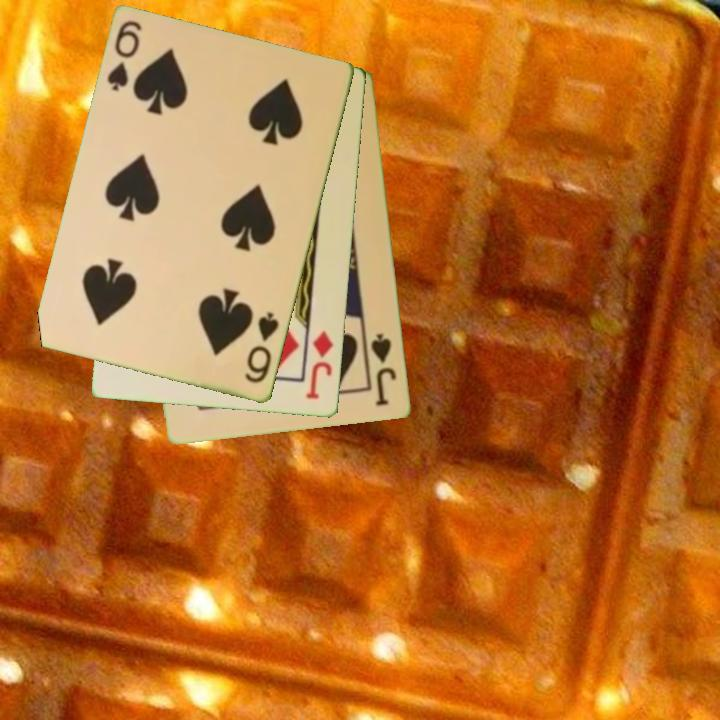6s: (241, 309, 282, 387), (104, 17, 145, 95)
Jd: (303, 327, 337, 402)
Js: (368, 330, 400, 409)
